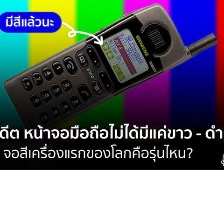phone: (1, 2, 221, 141)
